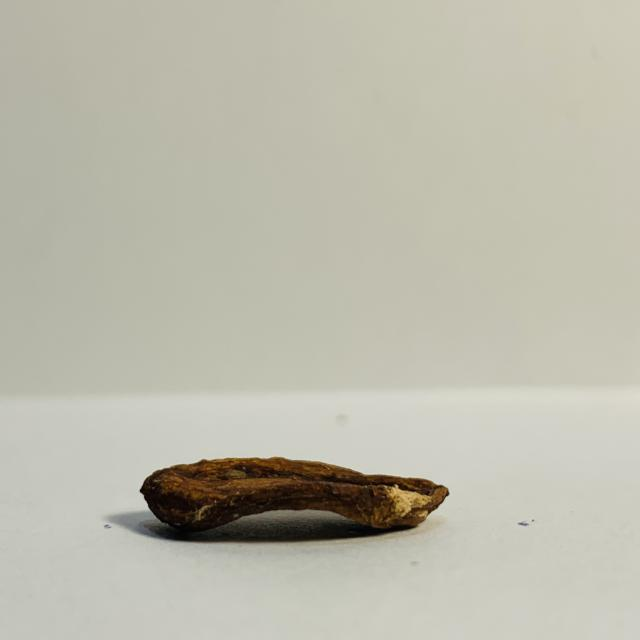Flat_cocoabeans: (118, 426, 470, 560)
